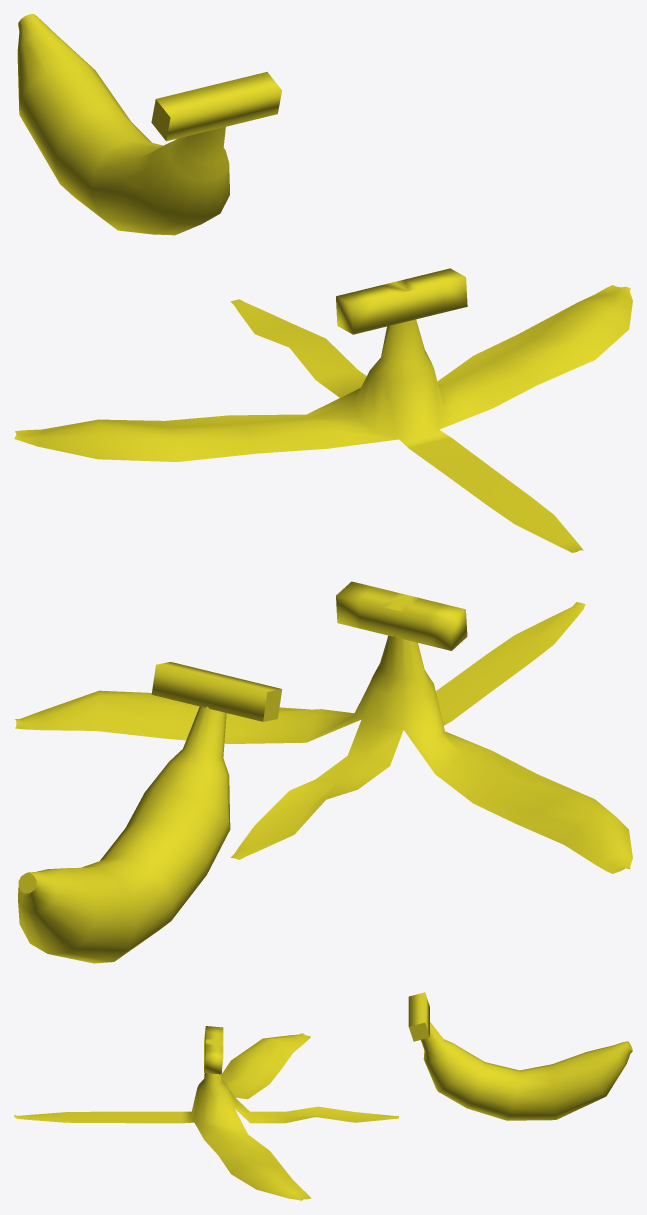
The model's file is Banana.fbx.
3 renders of one model, top to bottom at view 1: azimuth 30°, elevation 25°; view 2: azimuth 150°, elevation 25°; view 3: azimuth 270°, elevation 25°, orthographic. The views are drawn at different scales.
Parts seen in each view (by area): view 1: Cylinder002, Cylinder001; view 2: Cylinder002, Cylinder001; view 3: Cylinder002, Cylinder001.
Boxes of the visible parts, left/top/right/bottom form: Cylinder002: left=14, top=268, right=632, bottom=552; Cylinder001: left=17, top=14, right=281, bottom=235; Cylinder002: left=15, top=581, right=632, bottom=873; Cylinder001: left=18, top=662, right=282, bottom=963; Cylinder002: left=14, top=1026, right=398, bottom=1200; Cylinder001: left=408, top=992, right=632, bottom=1120.
Bounding box in the file's own units: 109 × 33.61 × 170.
